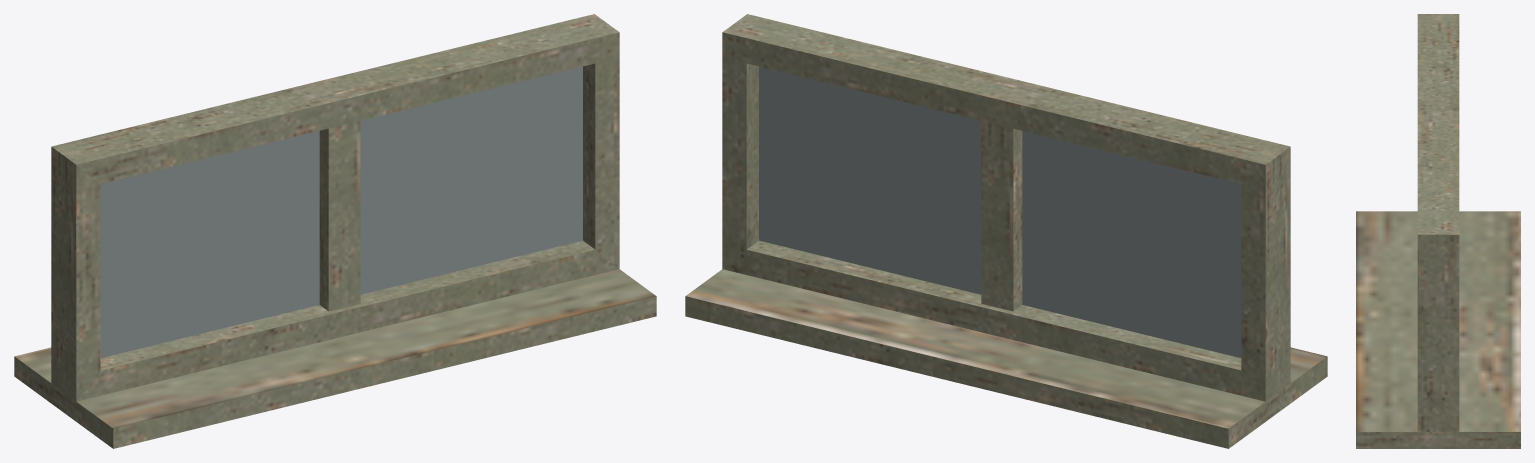
File: TimberSillWindow_1200x543_Insert.fbx
3 views of the same model, side by side, from view 1: azimuth 30°, elevation 25°; view 2: azimuth 150°, elevation 25°; view 3: azimuth 270°, elevation 25° (orthographic). The views are drawn at different scales.
Parts seen in each view (by area): view 1: TimberSillWindow_1200x543_Insert; view 2: TimberSillWindow_1200x543_Insert; view 3: TimberSillWindow_1200x543_Insert.
Boxes of the visible parts, bbox=[...] form: TimberSillWindow_1200x543_Insert: bbox=[14, 14, 656, 448]; TimberSillWindow_1200x543_Insert: bbox=[685, 14, 1327, 448]; TimberSillWindow_1200x543_Insert: bbox=[1356, 14, 1520, 448].
Size of the model in its own units: 120 by 54.27 by 37.85.
